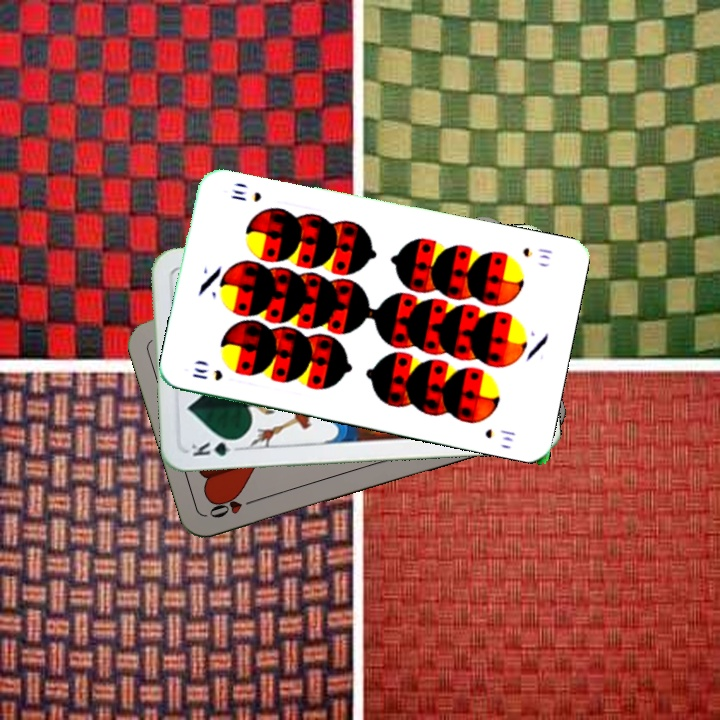GK: (187, 435, 244, 459)
HO: (205, 492, 262, 521)
S10: (188, 363, 226, 383), (519, 243, 555, 262)
